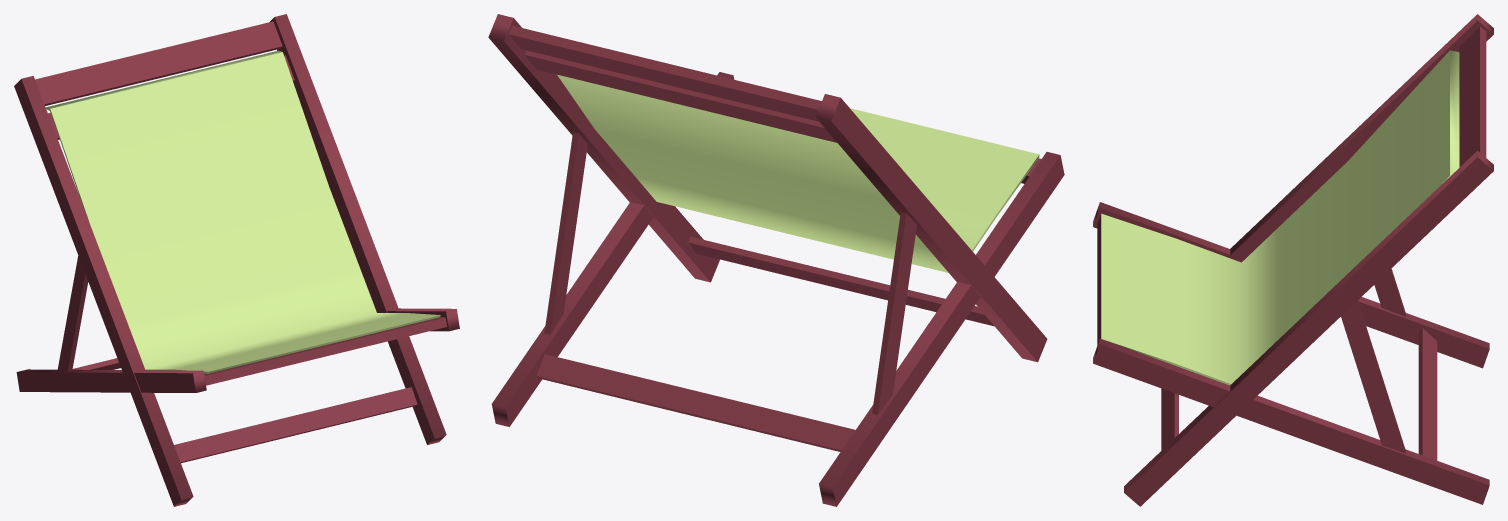
Rendered from cadeira.fbx.
3 renders of one model, left to right at view 1: azimuth 30°, elevation 25°; view 2: azimuth 150°, elevation 25°; view 3: azimuth 270°, elevation 25°, orthographic. The views are drawn at different scales.
Parts seen in each view (by area): view 1: cadeira; view 2: cadeira; view 3: cadeira.
Part boxes in pixels (x1=…): cadeira: x1=14, y1=14, x2=459, y2=506; cadeira: x1=488, y1=14, x2=1064, y2=506; cadeira: x1=1093, y1=14, x2=1493, y2=506.
Size of the model in its own units: 50.52 by 57.58 by 59.78.
